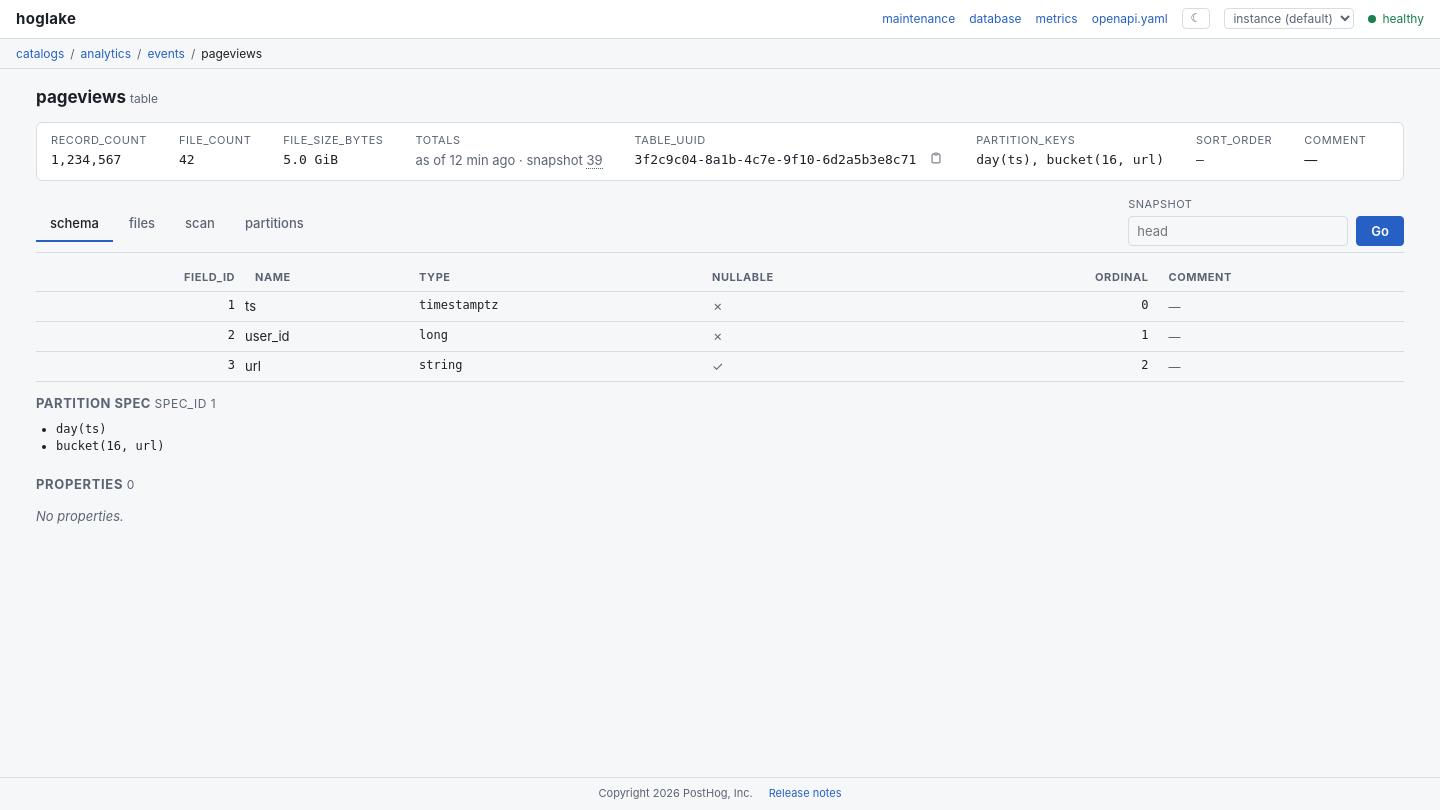
Test: time-travel snapshot selector › rejects a non-numeric typed snapshot id inline without a request
The width and height of the screenshot is (1440, 810).
Check: the text "1,234,567" is shown, box [51, 152, 122, 167]
Type "12garbage" into the field named "snapshot id" at (1238, 231), box [1128, 216, 1348, 246]
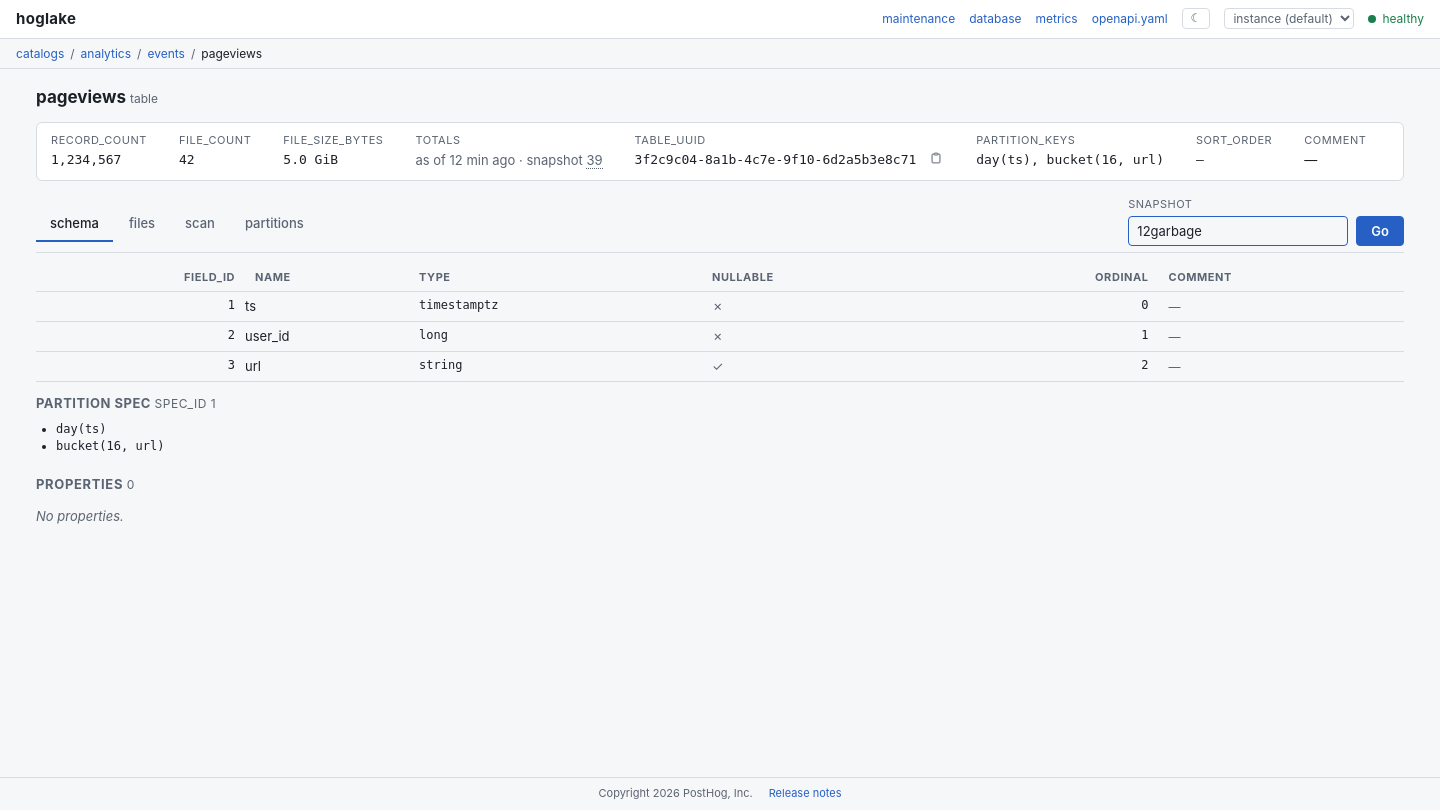
Click the button "Go" at (1380, 231), box [1356, 216, 1404, 246]
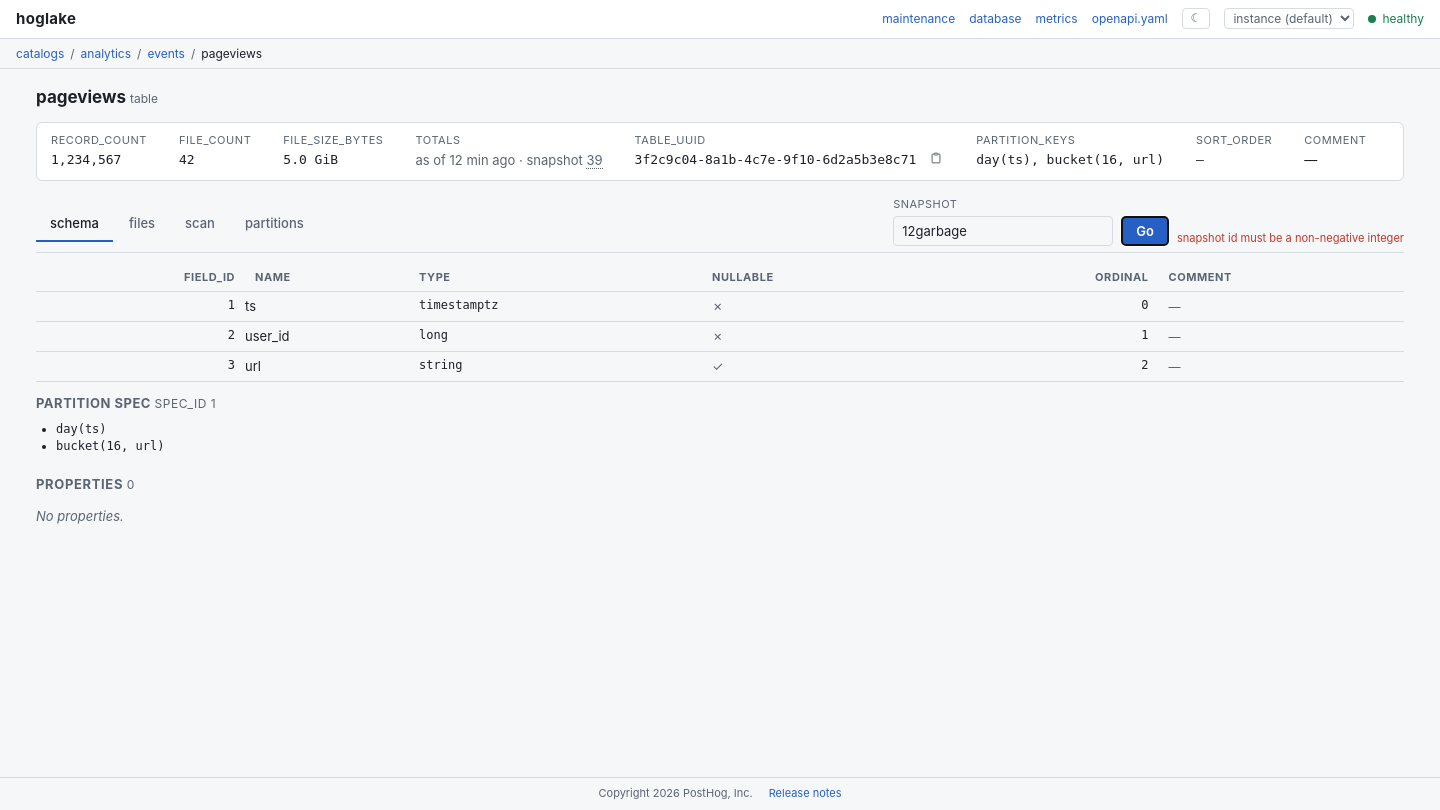
Check: the text "snapshot id must be a non-negative integer" is shown, box [1177, 230, 1404, 246]
